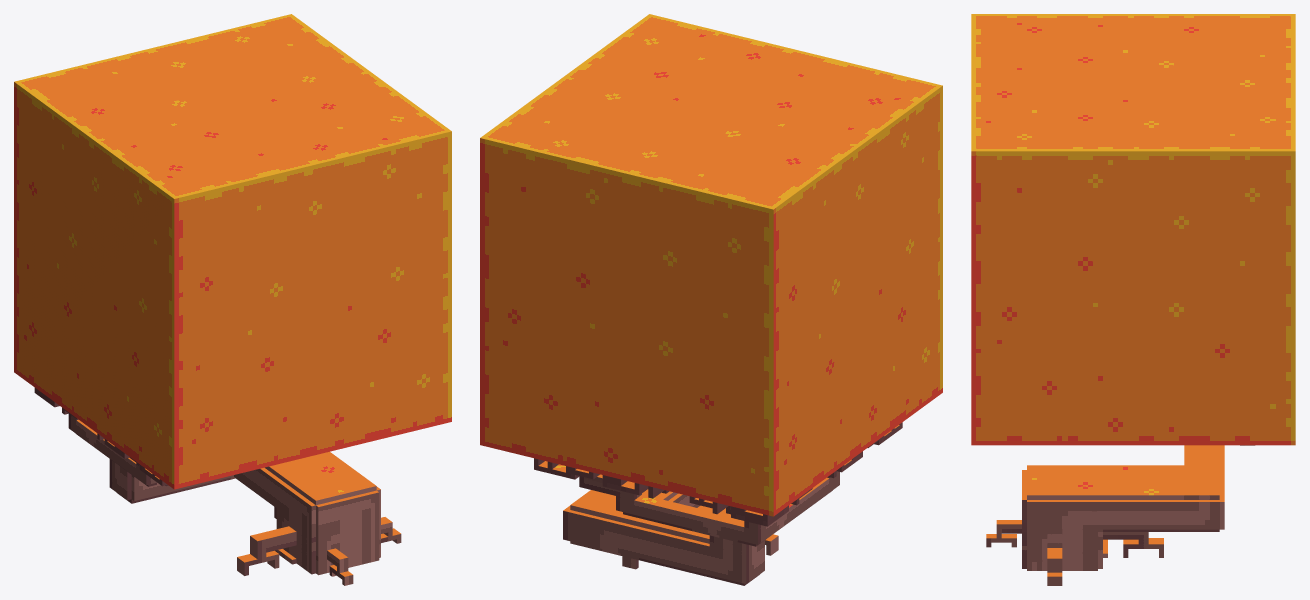
File: huge_tree_orangeao.fezao.glb
3 views of the same model, side by side, from view 1: azimuth 30°, elevation 25°; view 2: azimuth 150°, elevation 25°; view 3: azimuth 270°, elevation 25° (orthographic). The views are drawn at different scales.
Visible parts, largest first — view 1: huge_tree_ORANGEAO; view 2: huge_tree_ORANGEAO; view 3: huge_tree_ORANGEAO.
Part boxes in pixels (bbox=[...]): huge_tree_ORANGEAO: bbox=[14, 14, 451, 585]; huge_tree_ORANGEAO: bbox=[480, 14, 942, 585]; huge_tree_ORANGEAO: bbox=[971, 14, 1295, 585].
Bounding box in the file's own units: 4 × 6 × 4.
Materials: 1 (1 with a texture image).
